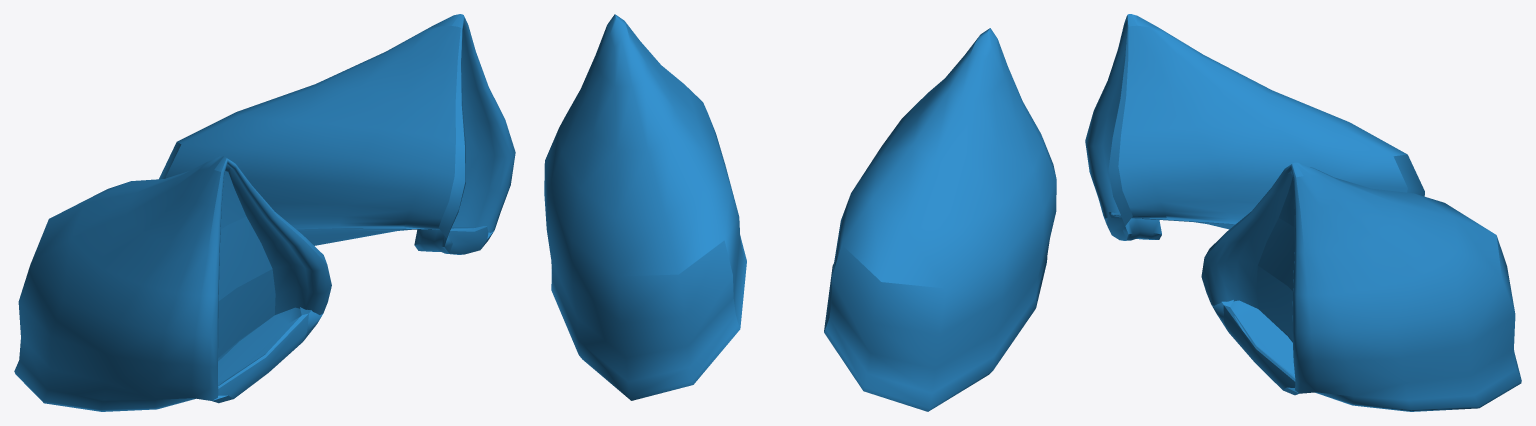
3 views of the same model, side by side, from view 1: azimuth 30°, elevation 25°; view 2: azimuth 150°, elevation 25°; view 3: azimuth 270°, elevation 25° (orthographic). The views are drawn at different scales.
Visible parts, largest first — view 1: ears_005; view 2: ears_005; view 3: ears_005.
Boxes of the visible parts, x1,y1,x2,y2 form: ears_005: [14, 14, 515, 411]; ears_005: [544, 14, 1056, 411]; ears_005: [1085, 14, 1521, 411].
Size of the model in its own units: 88.61 by 74.75 by 53.69.
